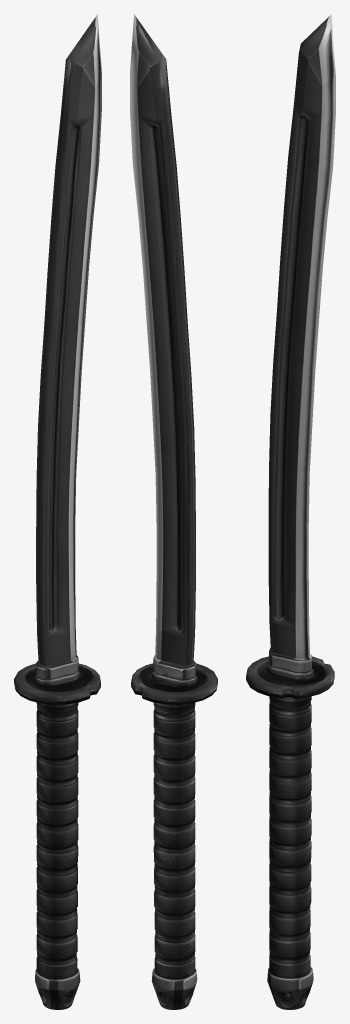
File: katana.glb
3 views of the same model, side by side, from view 1: azimuth 30°, elevation 25°; view 2: azimuth 150°, elevation 25°; view 3: azimuth 330°, elevation 25° (orthographic). The views are drawn at different scales.
Parts seen in each view (by area): view 1: tripo_node_afd6dfaf-1adb-4792-a42d-9a8649e8a339; view 2: tripo_node_afd6dfaf-1adb-4792-a42d-9a8649e8a339; view 3: tripo_node_afd6dfaf-1adb-4792-a42d-9a8649e8a339.
Part boxes in pixels (left/top/right/bottom): tripo_node_afd6dfaf-1adb-4792-a42d-9a8649e8a339: left=14, top=14, right=101, bottom=1009; tripo_node_afd6dfaf-1adb-4792-a42d-9a8649e8a339: left=130, top=14, right=217, bottom=1009; tripo_node_afd6dfaf-1adb-4792-a42d-9a8649e8a339: left=246, top=14, right=335, bottom=1009.
Bounding box in the file's own units: 0.0874 × 0.9995 × 0.0806.
Materials: 1 (1 with a texture image).
